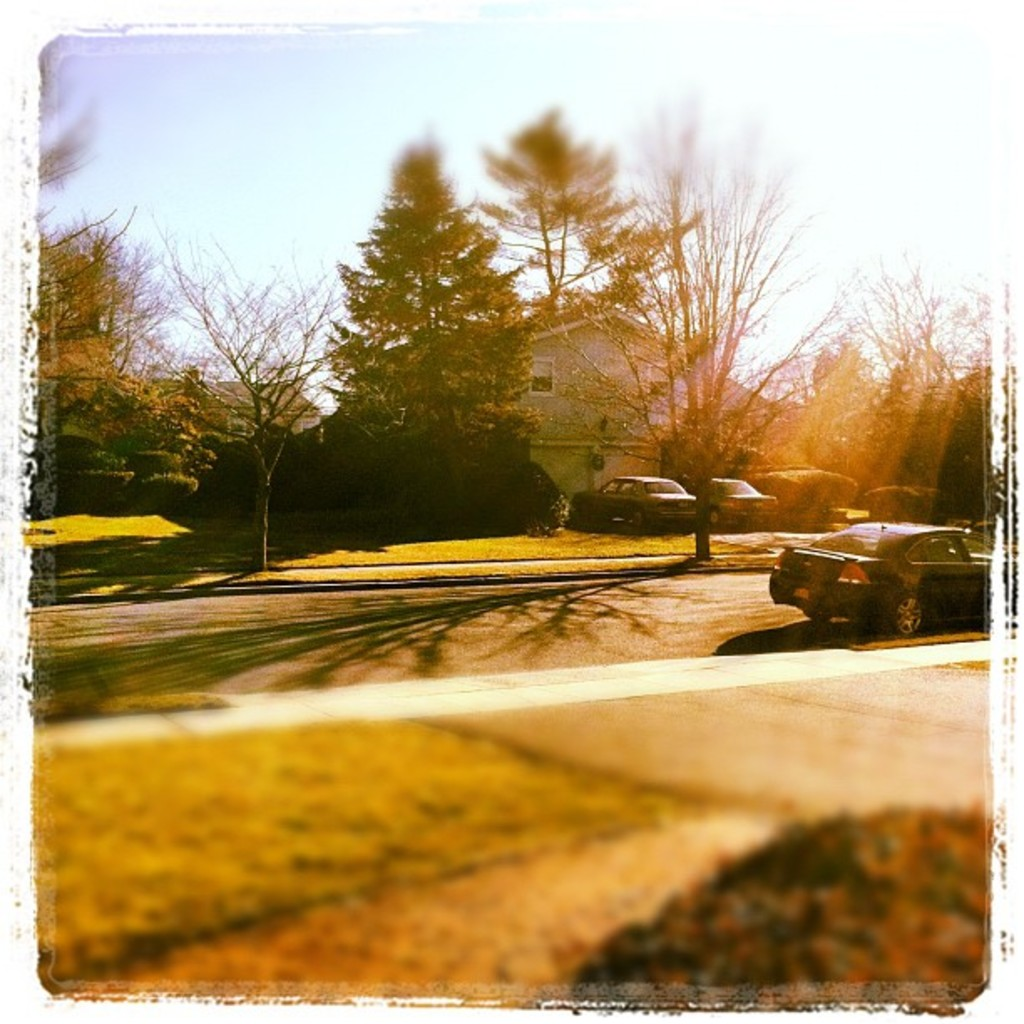mobil: (767, 513, 989, 648), (567, 470, 690, 545)
